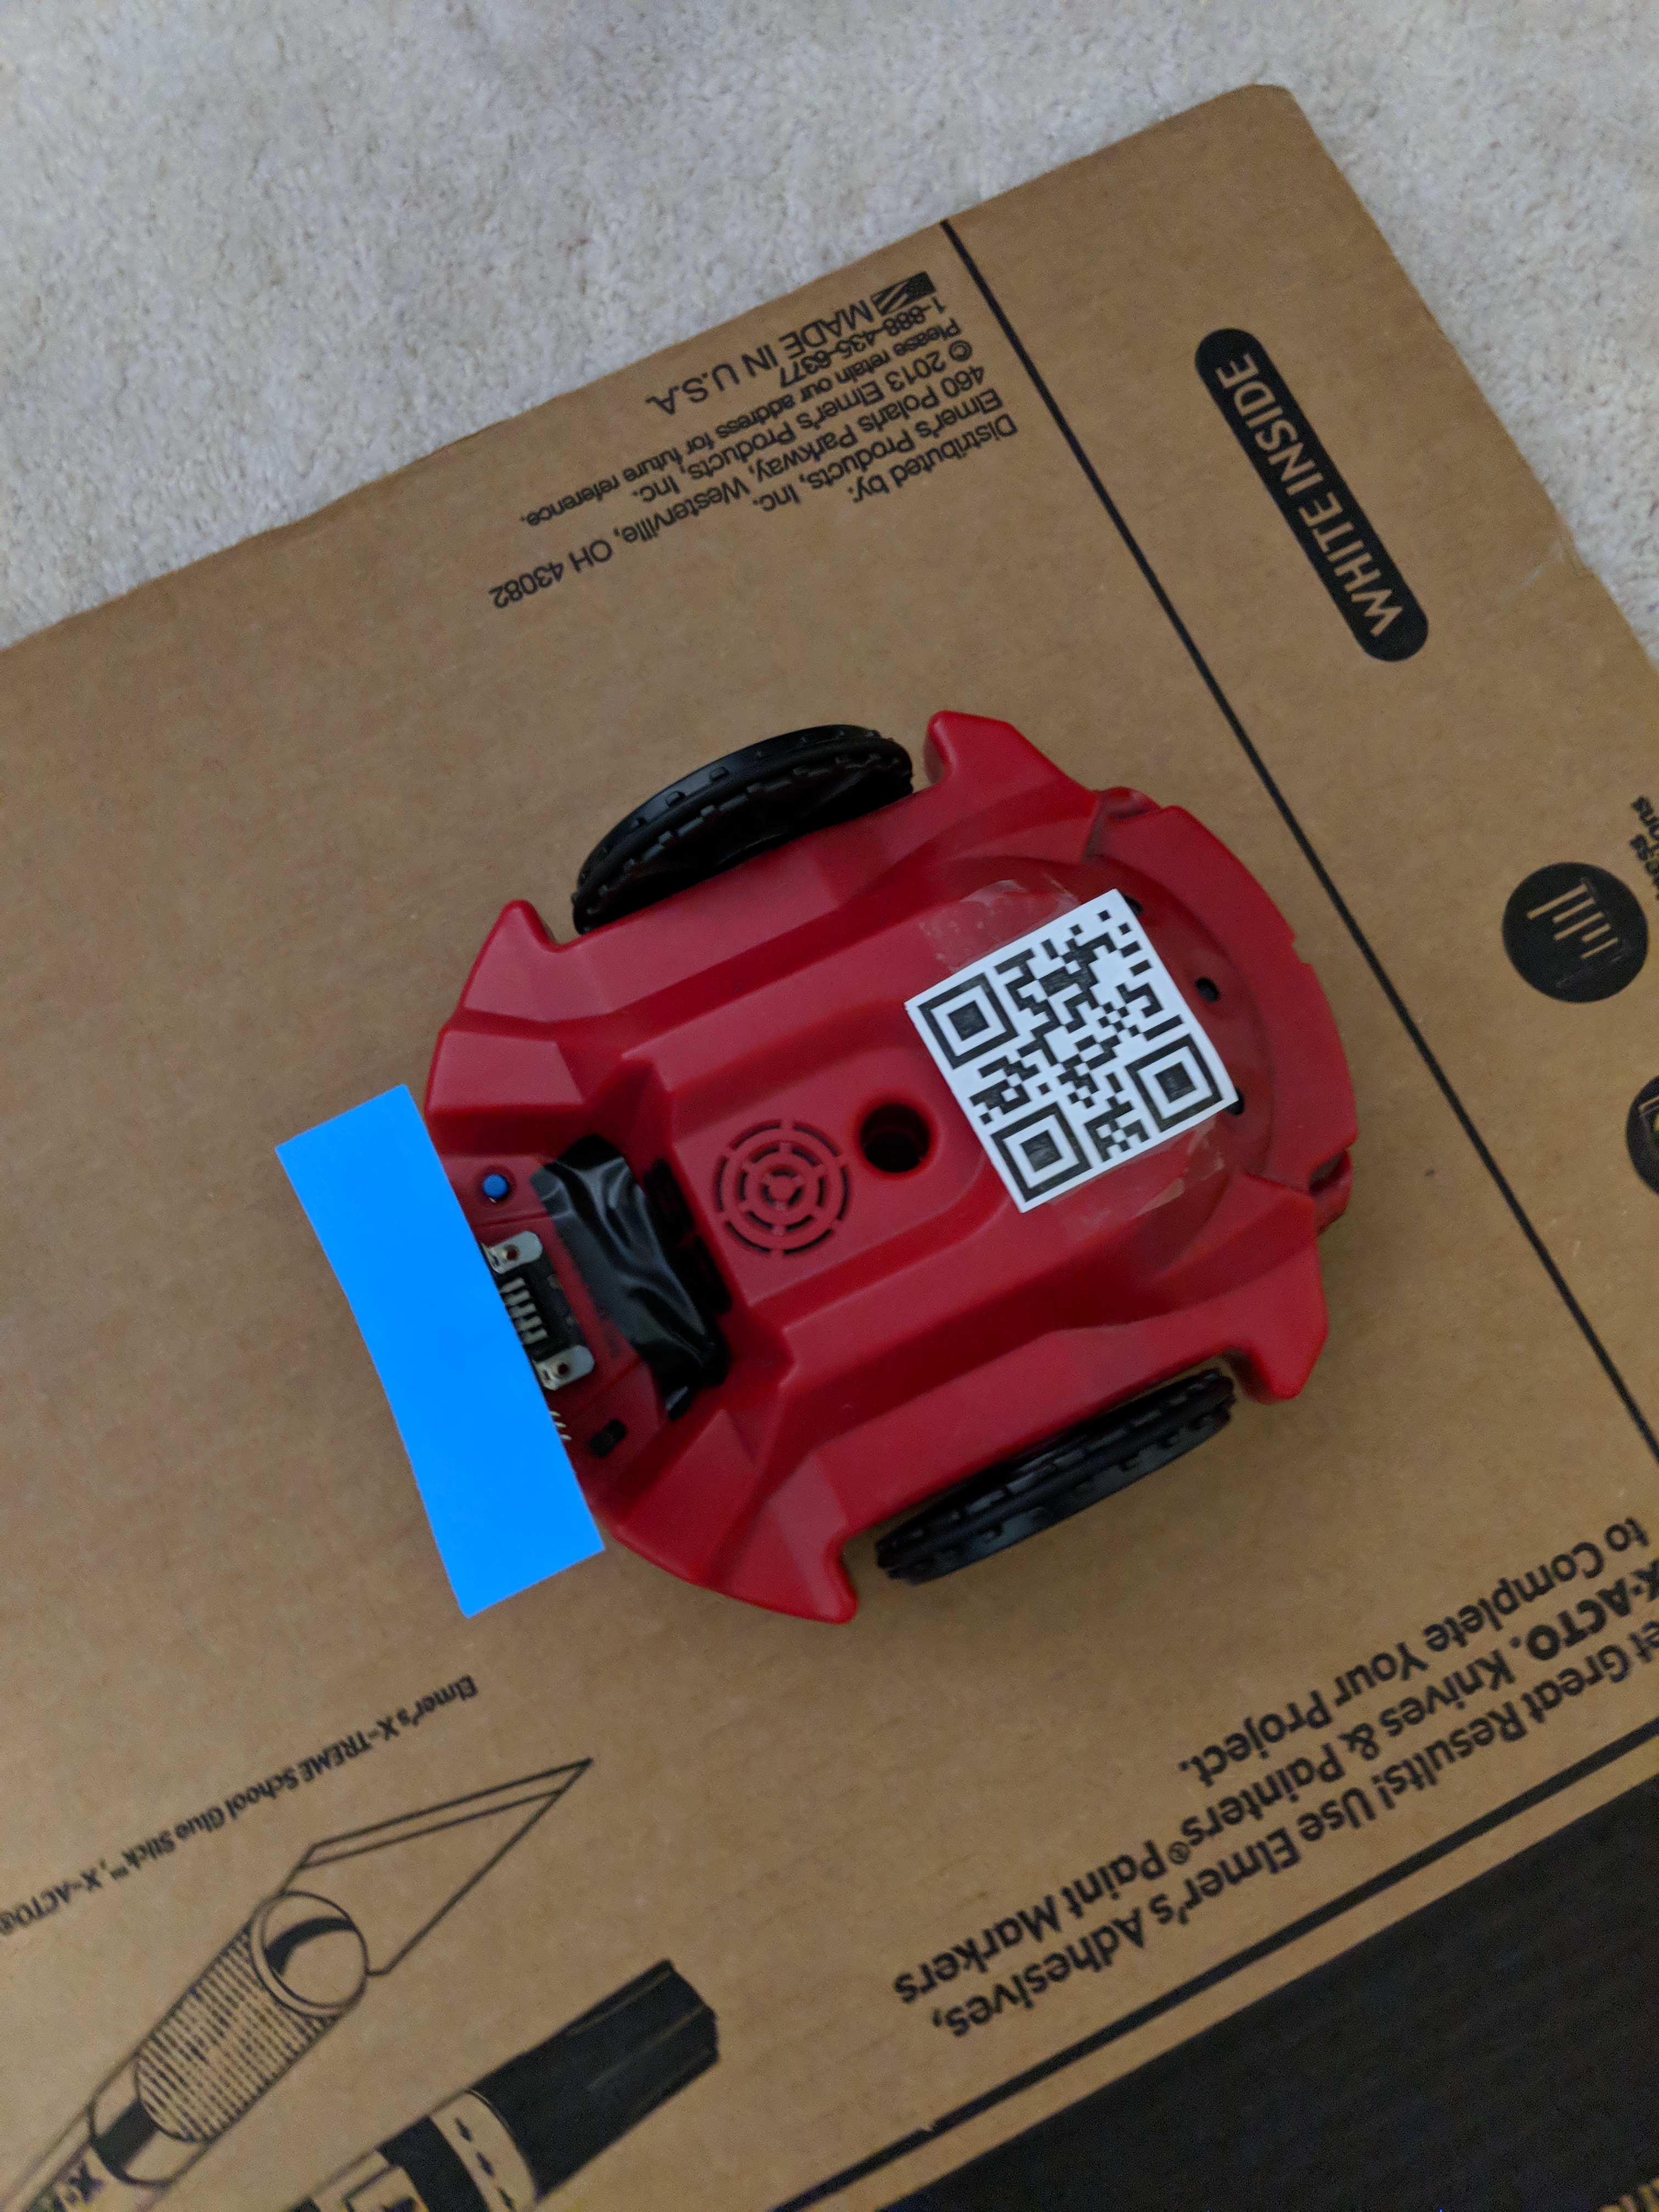chassis: (308, 678, 1391, 1641)
qr: (884, 867, 1255, 1223)
